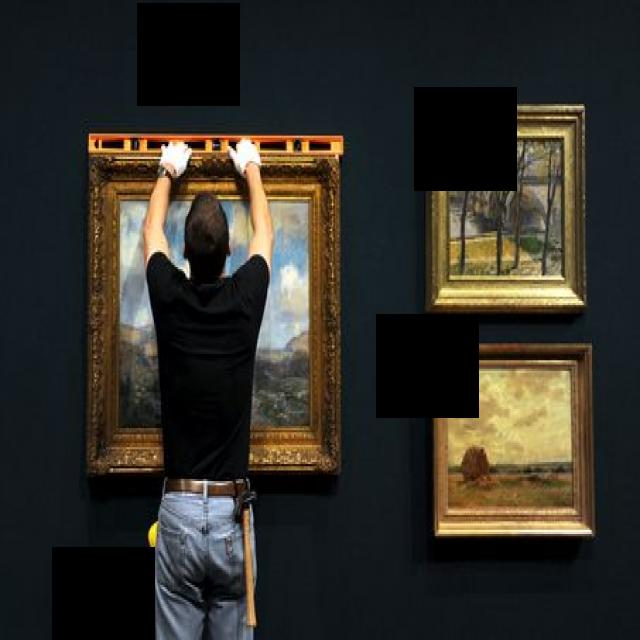Tablo: (117, 198, 311, 430), (447, 369, 575, 510), (449, 137, 565, 277)
